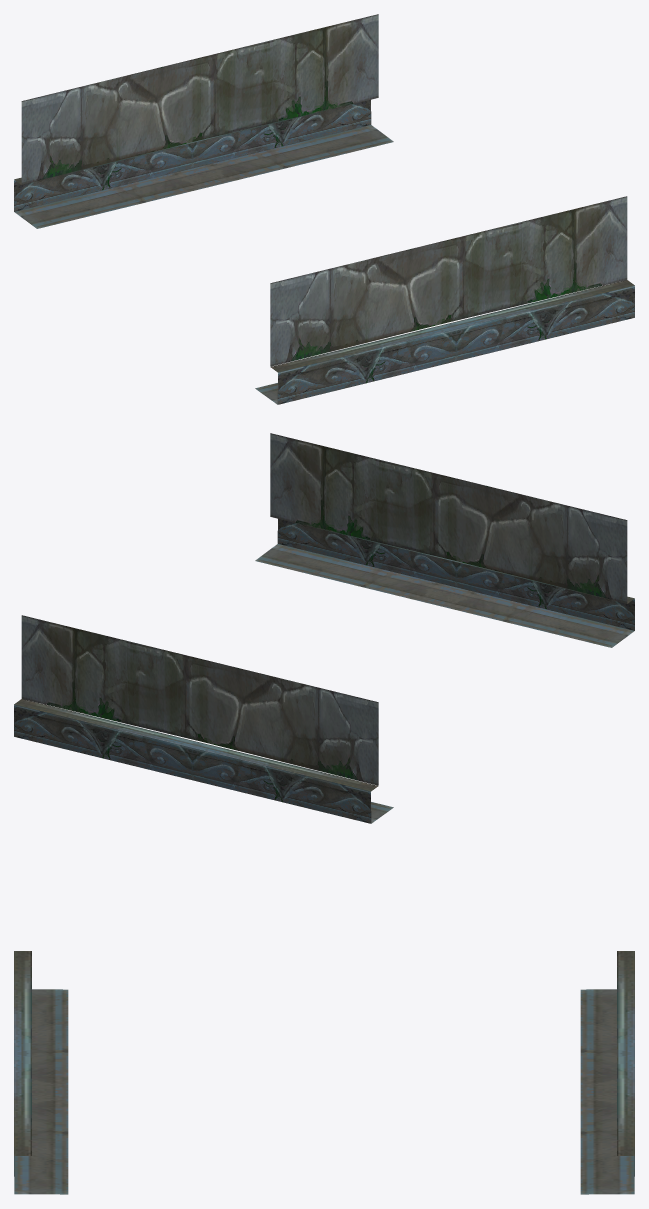
File: stemple_bridgesmall_straight_02.fbx
3 views of the same model, one above another, from view 1: azimuth 30°, elevation 25°; view 2: azimuth 150°, elevation 25°; view 3: azimuth 270°, elevation 25° (orthographic). The views are drawn at different scales.
Parts seen in each view (by area): view 1: stemple_bridgesmall_straight_02-0; view 2: stemple_bridgesmall_straight_02-0; view 3: stemple_bridgesmall_straight_02-0.
Boxes of the visible parts, x1,y1,x2,y2 form: stemple_bridgesmall_straight_02-0: (14, 14, 634, 404); stemple_bridgesmall_straight_02-0: (14, 433, 634, 823); stemple_bridgesmall_straight_02-0: (14, 951, 634, 1194).
Bounding box in the file's own units: 4 × 1.25 × 5.12.
